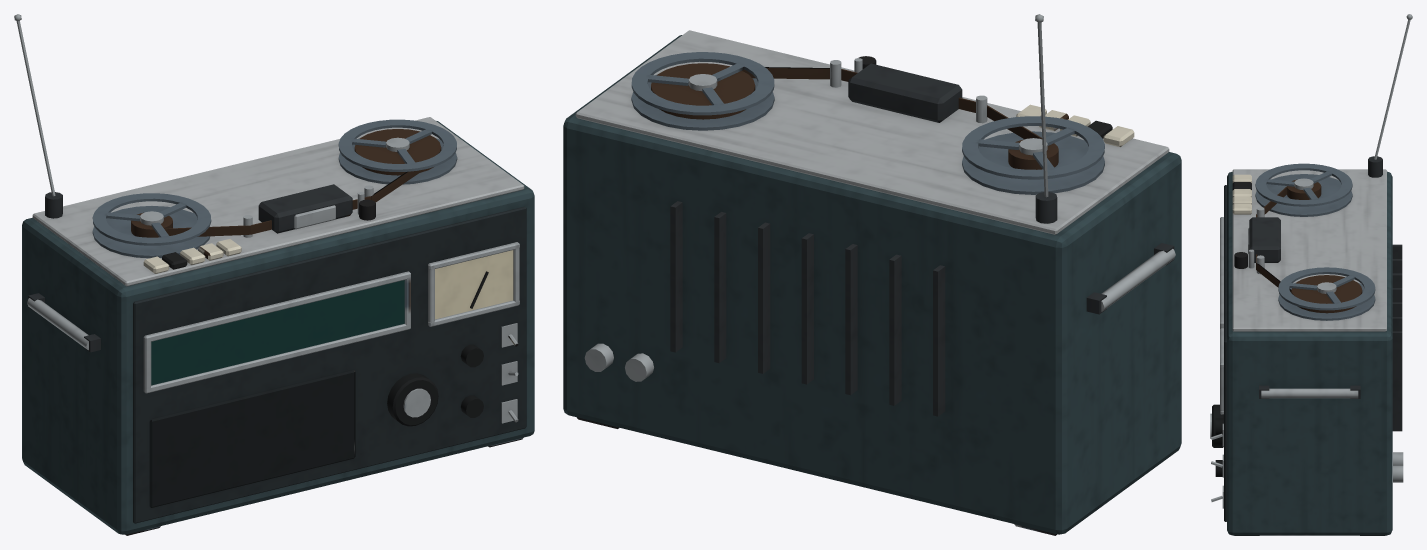
The model's file is cinematic-radio-console.fbx.
3 views of the same model, side by side, from view 1: azimuth 30°, elevation 25°; view 2: azimuth 150°, elevation 25°; view 3: azimuth 270°, elevation 25° (orthographic). The views are drawn at different scales.
Parts seen in each view (by area): view 1: cinematic-radio-console, ReelL, ReelR; view 2: cinematic-radio-console, ReelL, ReelR; view 3: cinematic-radio-console, ReelL, ReelR.
Boxes of the visible parts, left/top/right/bottom form: cinematic-radio-console: left=14, top=14, right=534, bottom=535; ReelL: left=338, top=119, right=457, bottom=184; ReelR: left=92, top=193, right=211, bottom=258; cinematic-radio-console: left=563, top=14, right=1181, bottom=535; ReelL: left=631, top=52, right=774, bottom=130; ReelR: left=962, top=116, right=1104, bottom=194; cinematic-radio-console: left=1210, top=14, right=1412, bottom=535; ReelL: left=1278, top=267, right=1375, bottom=320; ReelR: left=1255, top=163, right=1352, bottom=216.
Size of the model in its own units: 7.34 by 7.02 by 3.54.
Materials: 1 (1 with a texture image).
